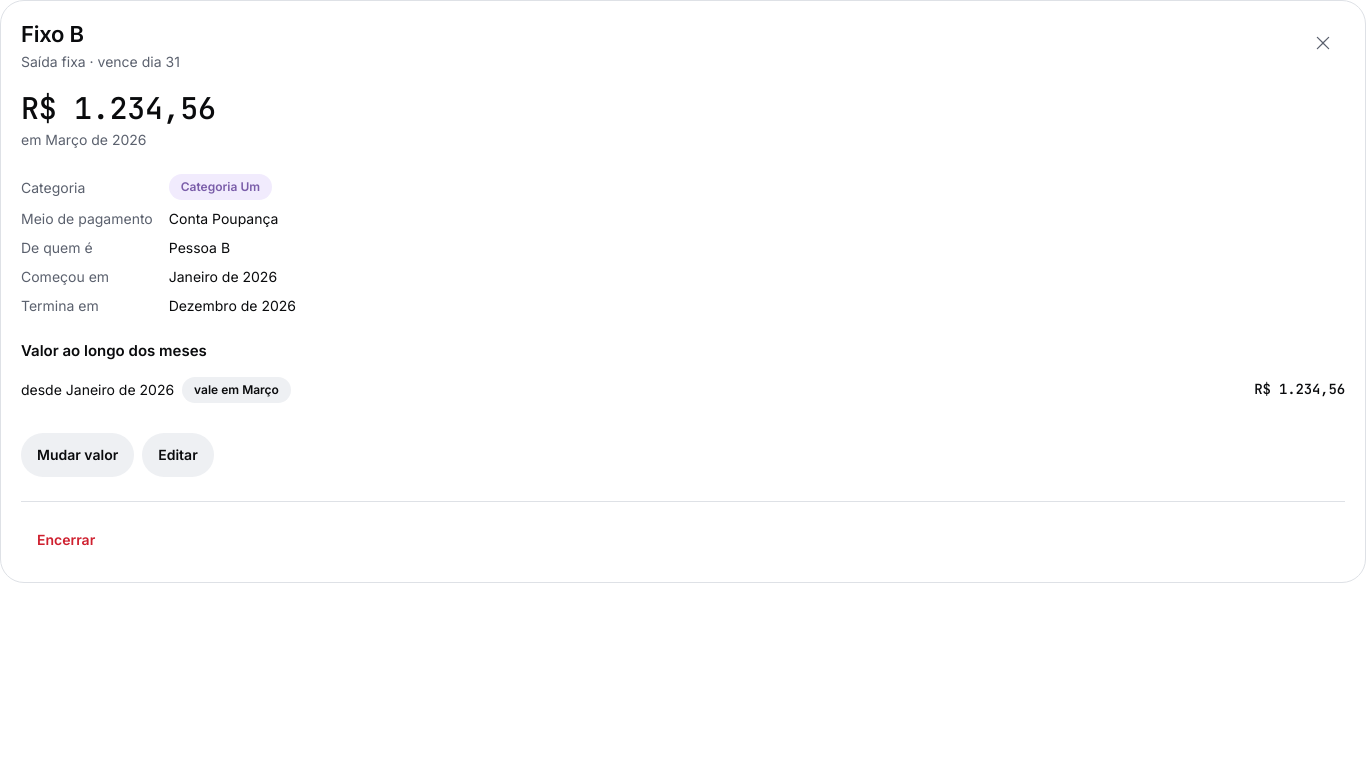
mudar o valor e encerrar no painel (FIXCOL-05, ACs 1 a 3 e 6) › "Mudar valor" abre o controle de valor, com o mês aberto
Click the button "Mudar valor" at (78, 455), box left=21, top=433, right=134, bottom=477
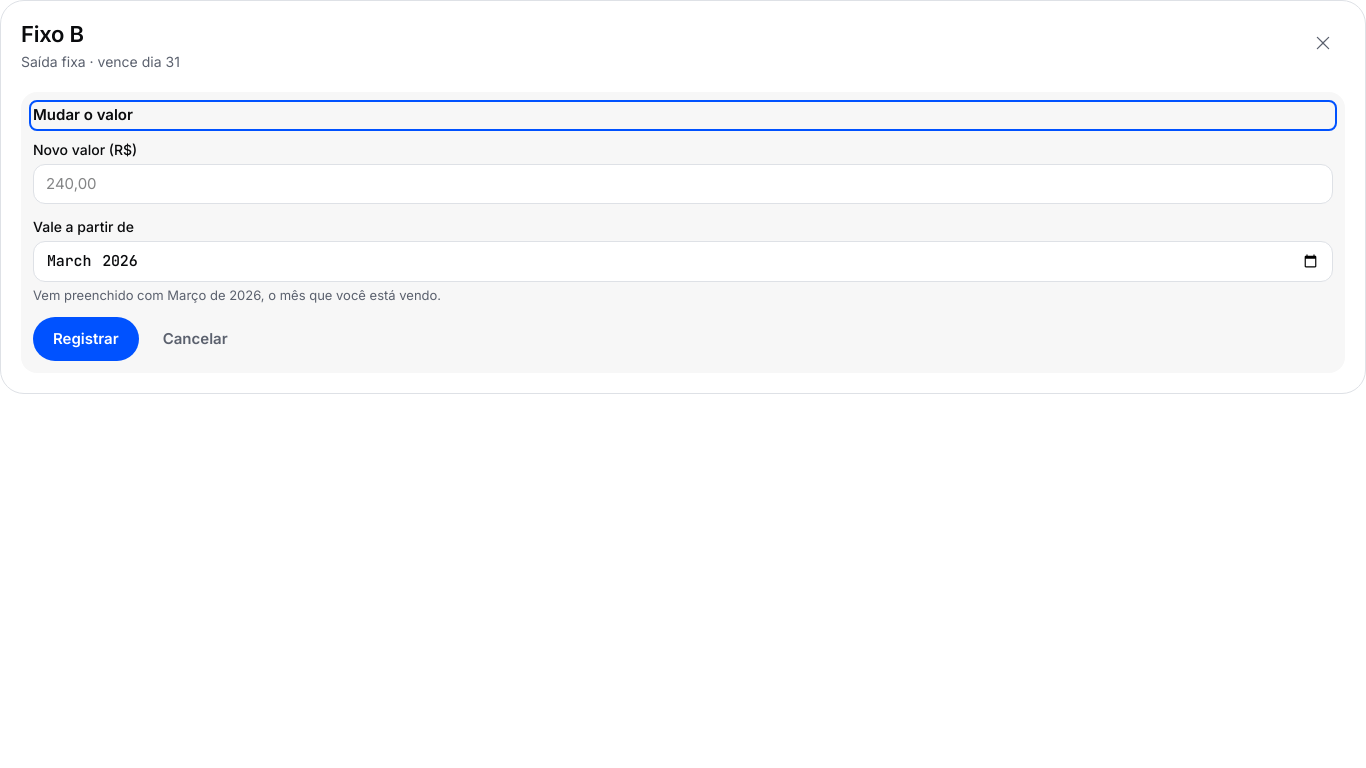
Check: the heading "Fixo B" is shown, box left=21, top=21, right=84, bottom=47
Check: the heading "Mudar o valor" is shown, box left=33, top=105, right=133, bottom=124
Check: the field labelled "Vale a partir de" holds "2026-03", box left=33, top=241, right=1333, bottom=282
